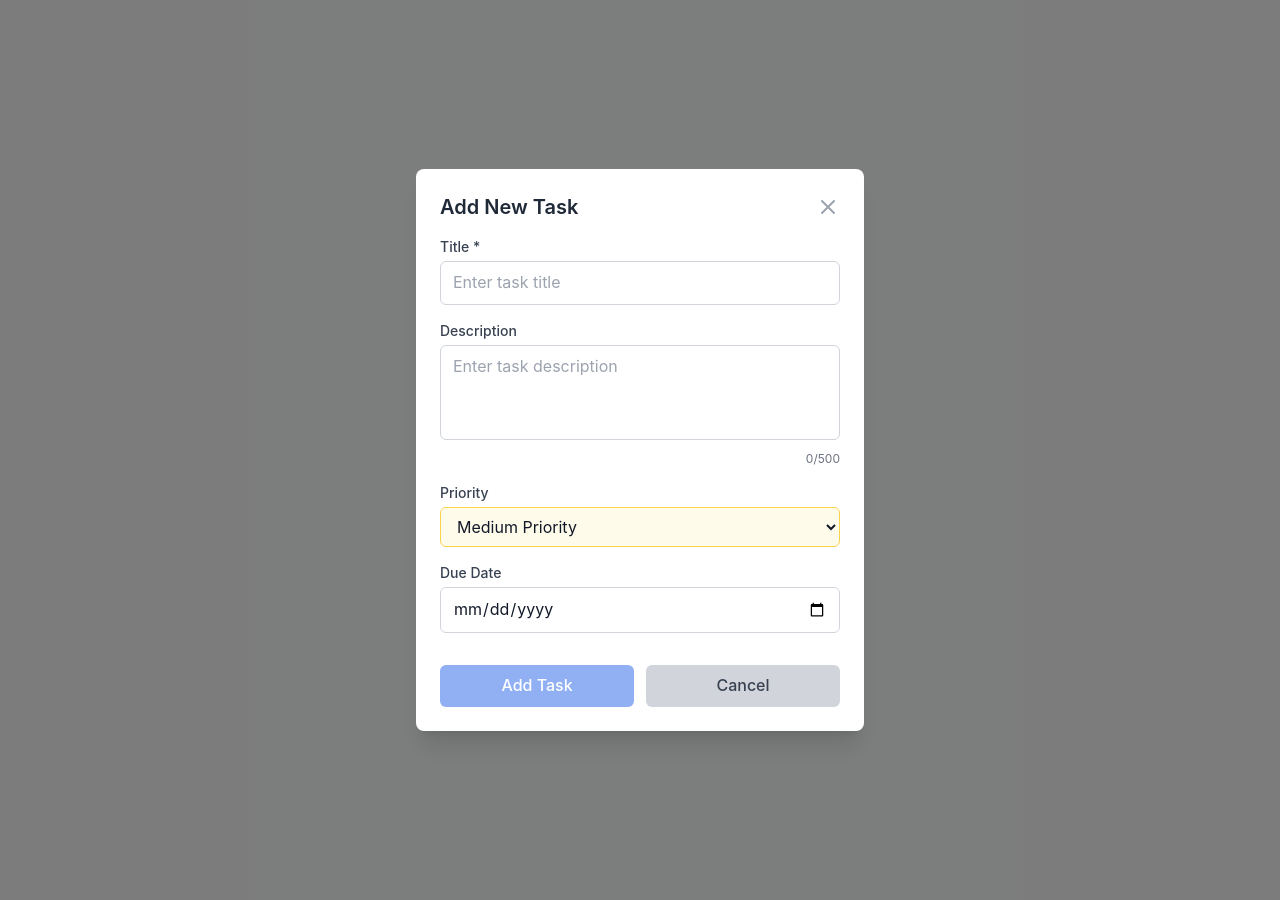
Test case: TaskForm Component › Form Validation › updates character counter as user types in description
Type "Hello" into the text box labelled "Description" at (640, 392), box [440,345,840,440]
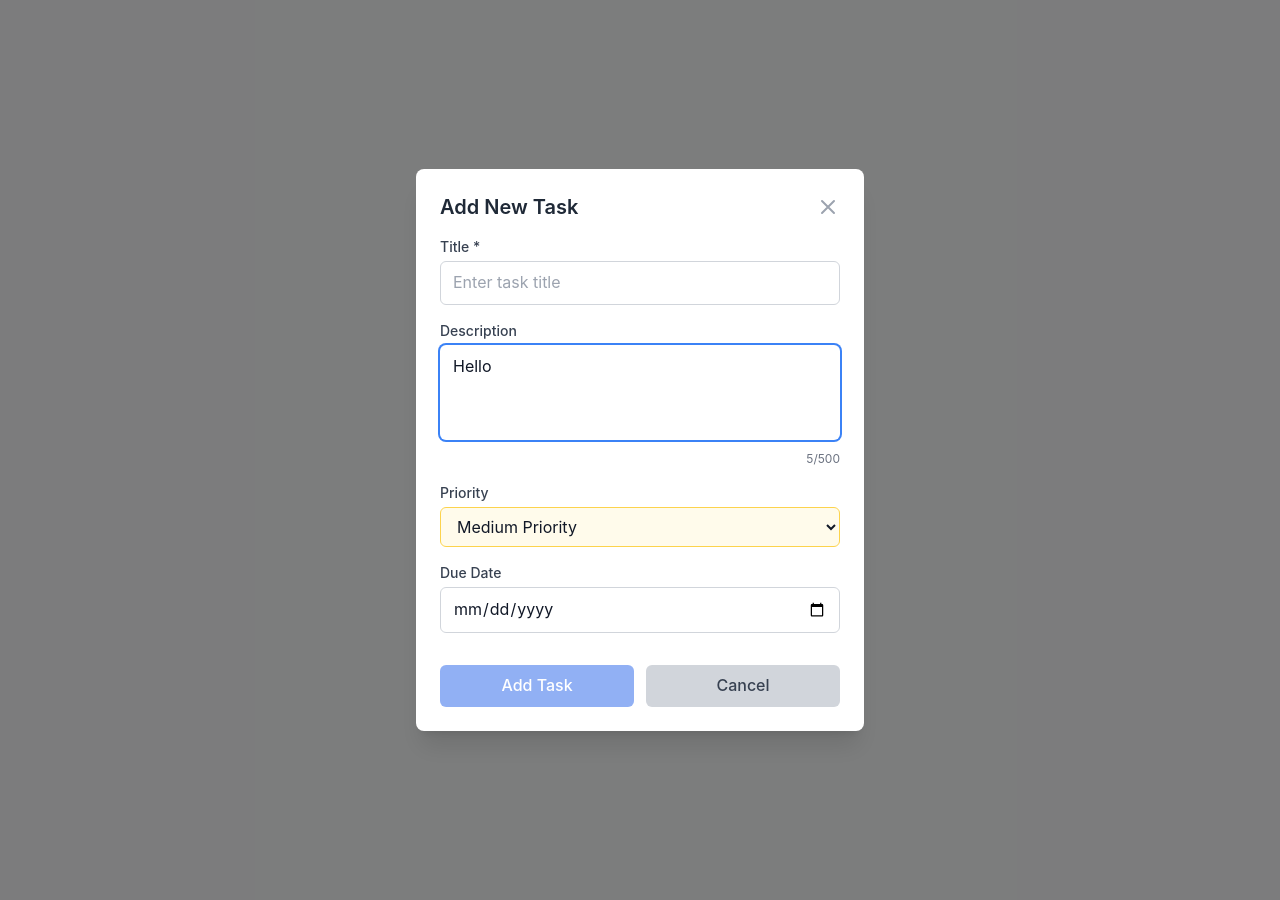
Expected: the text "5/500" is shown, [806,451,840,467]
